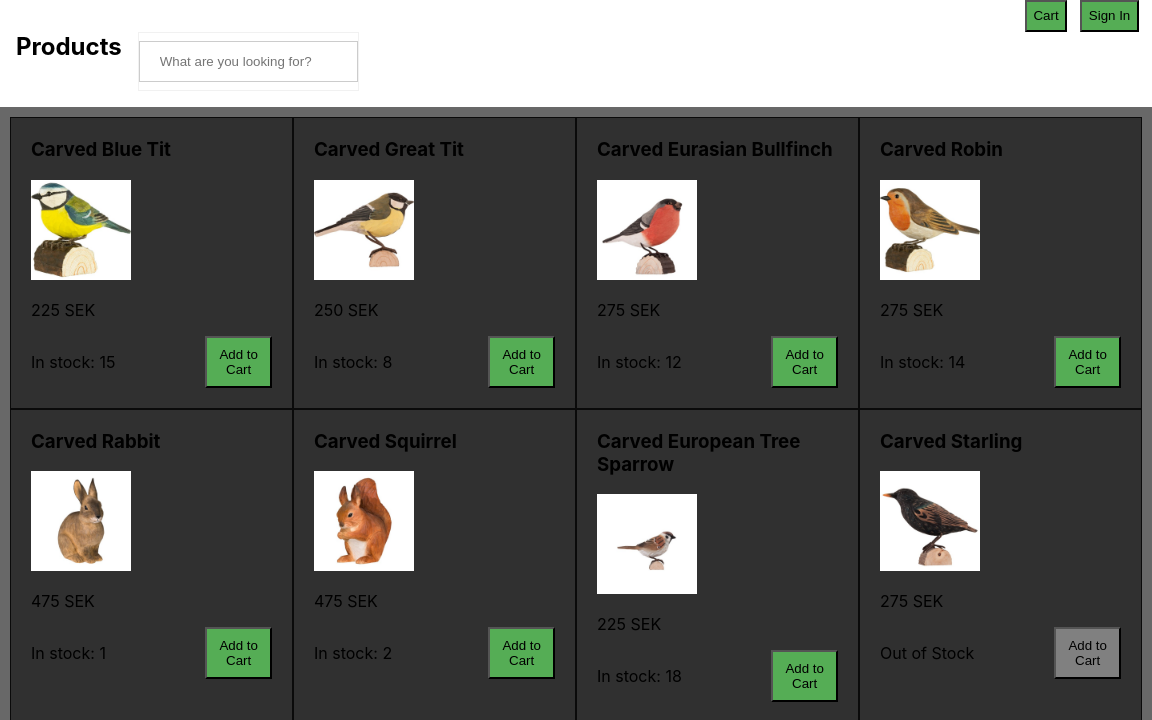
Test: ProductList component › informs the user if the password is incorrect
Click the button "Sign In" at (1110, 16), box x1=1080 y1=0 x2=1139 y2=32
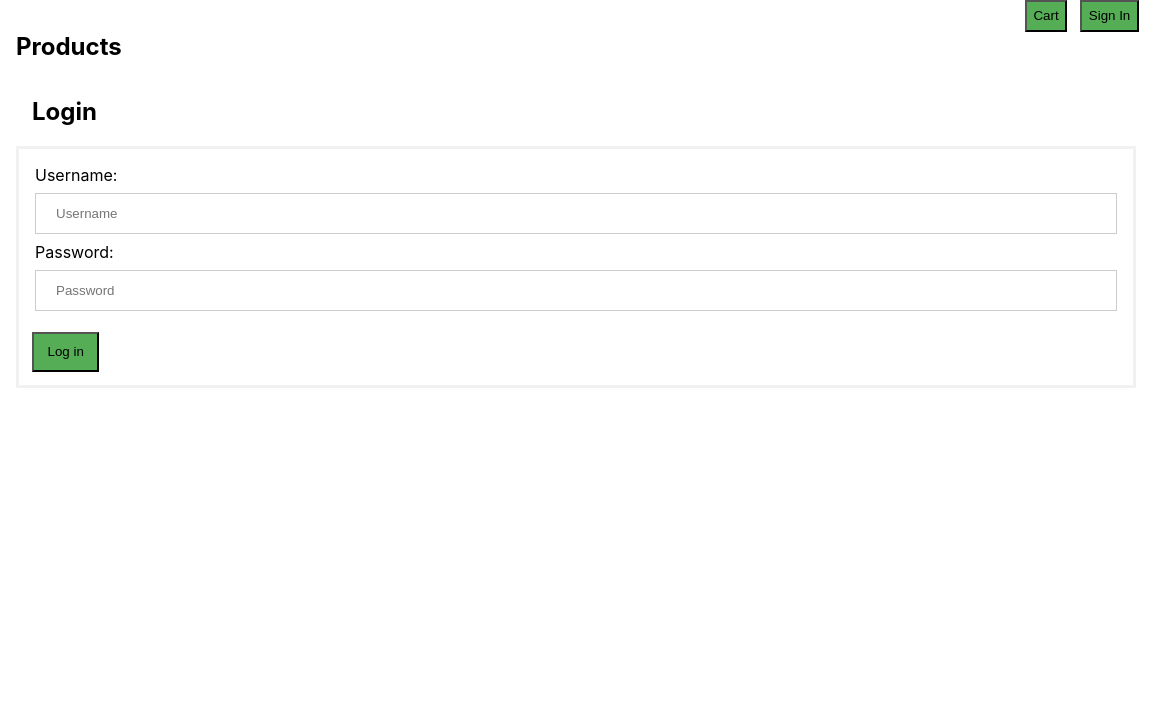
Type "user" into the field with test id "username-input" at (576, 213), box x1=35 y1=193 x2=1117 y2=234
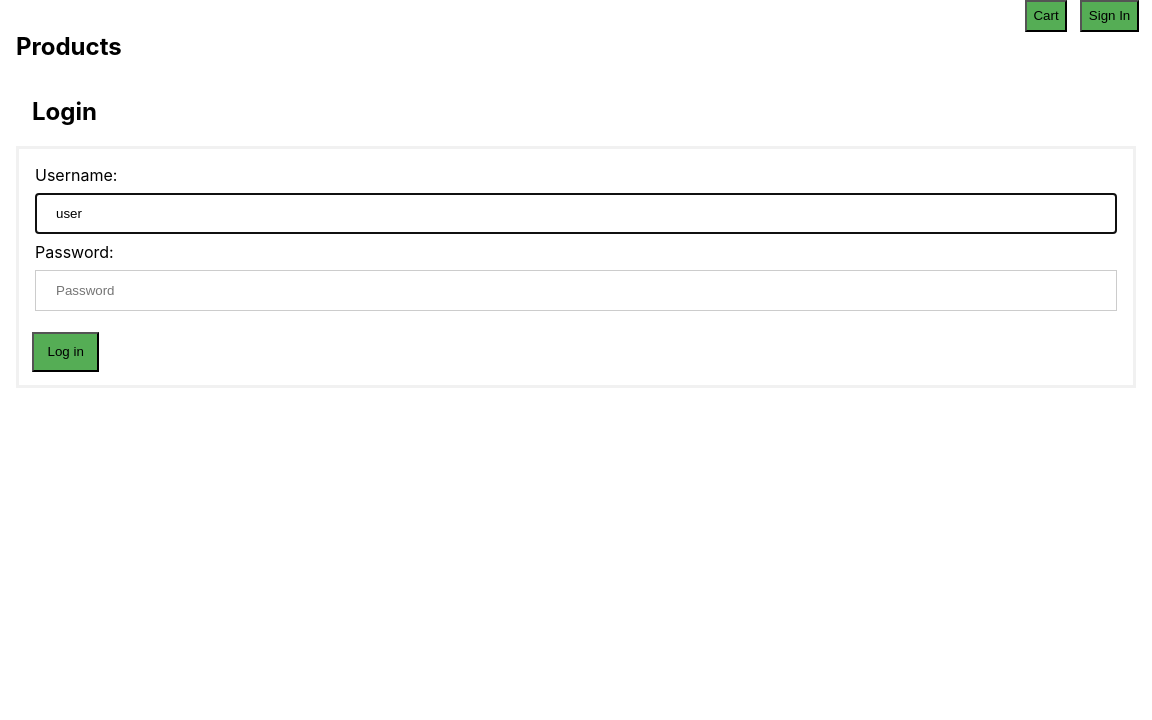
Type "wrongpw" into the password field with test id "password-input" at (576, 290), box x1=35 y1=270 x2=1117 y2=311
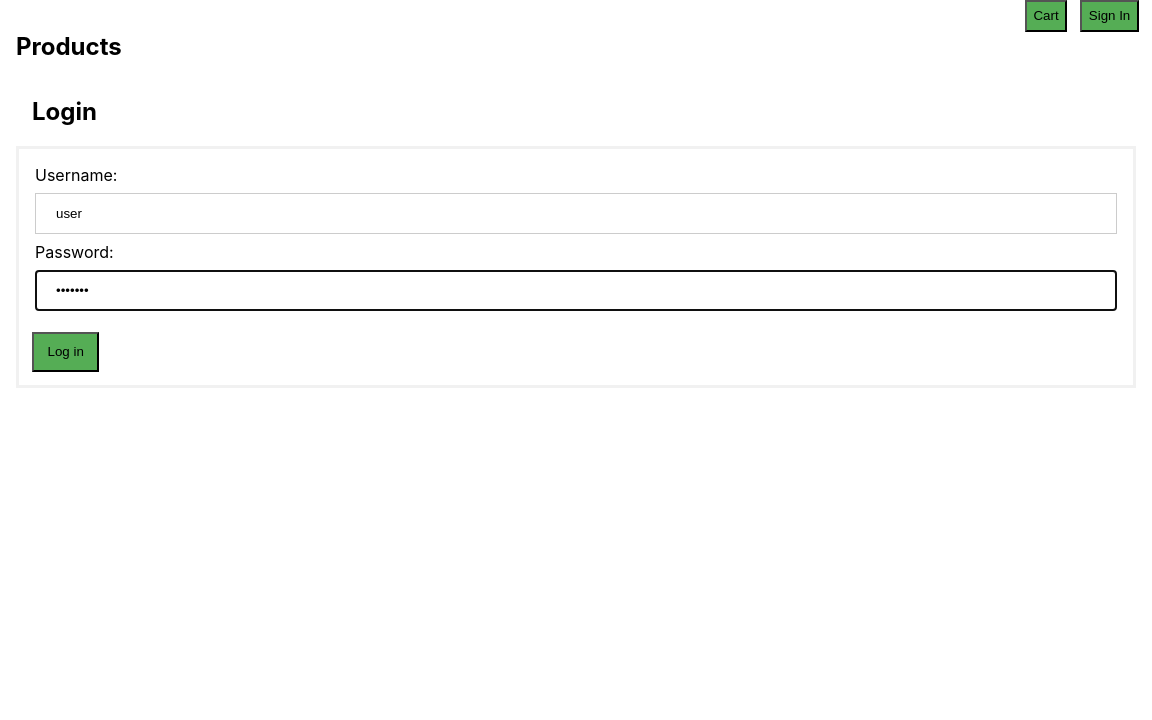
Click the button "Log in" at (66, 352), box x1=32 y1=332 x2=99 y2=372
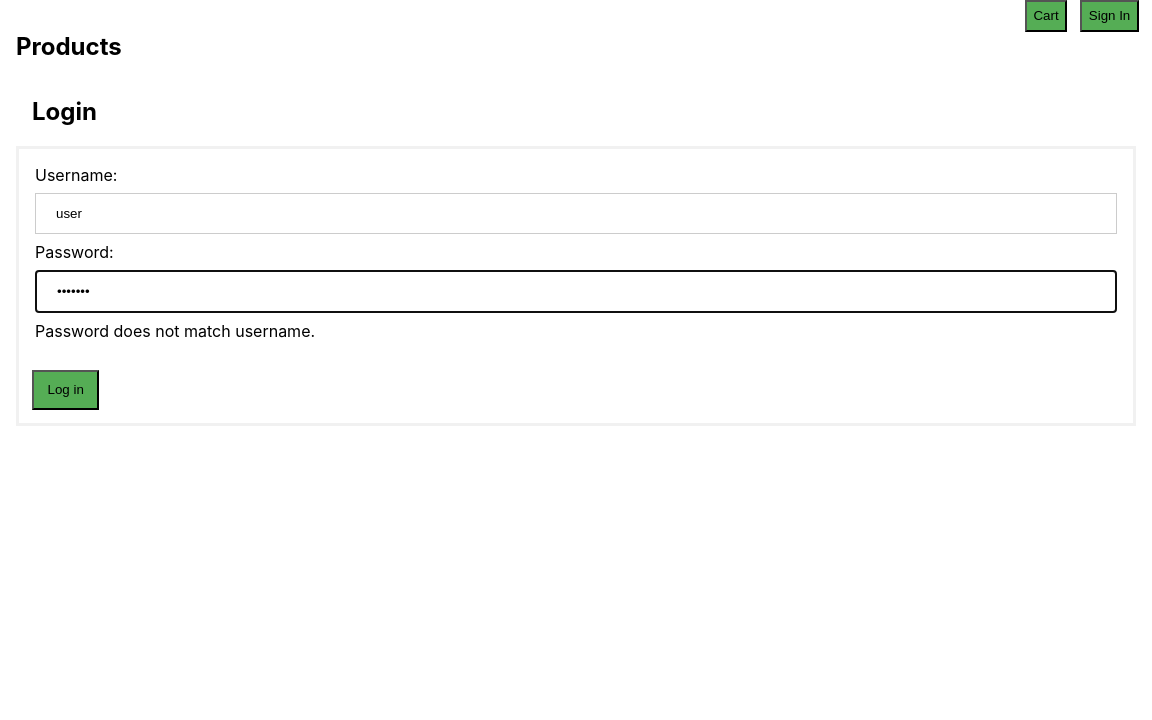
Expected: the text "Password does not match username." is shown, x1=35 y1=321 x2=315 y2=341
